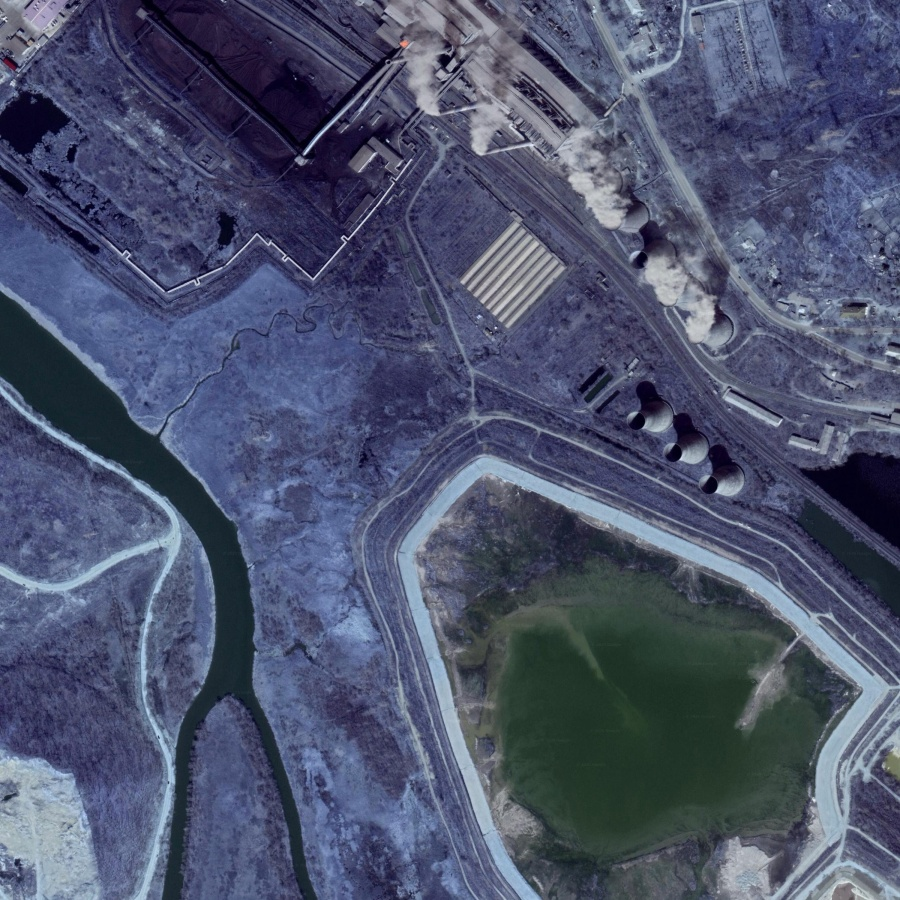PowerPlant: (565, 136, 779, 509)
